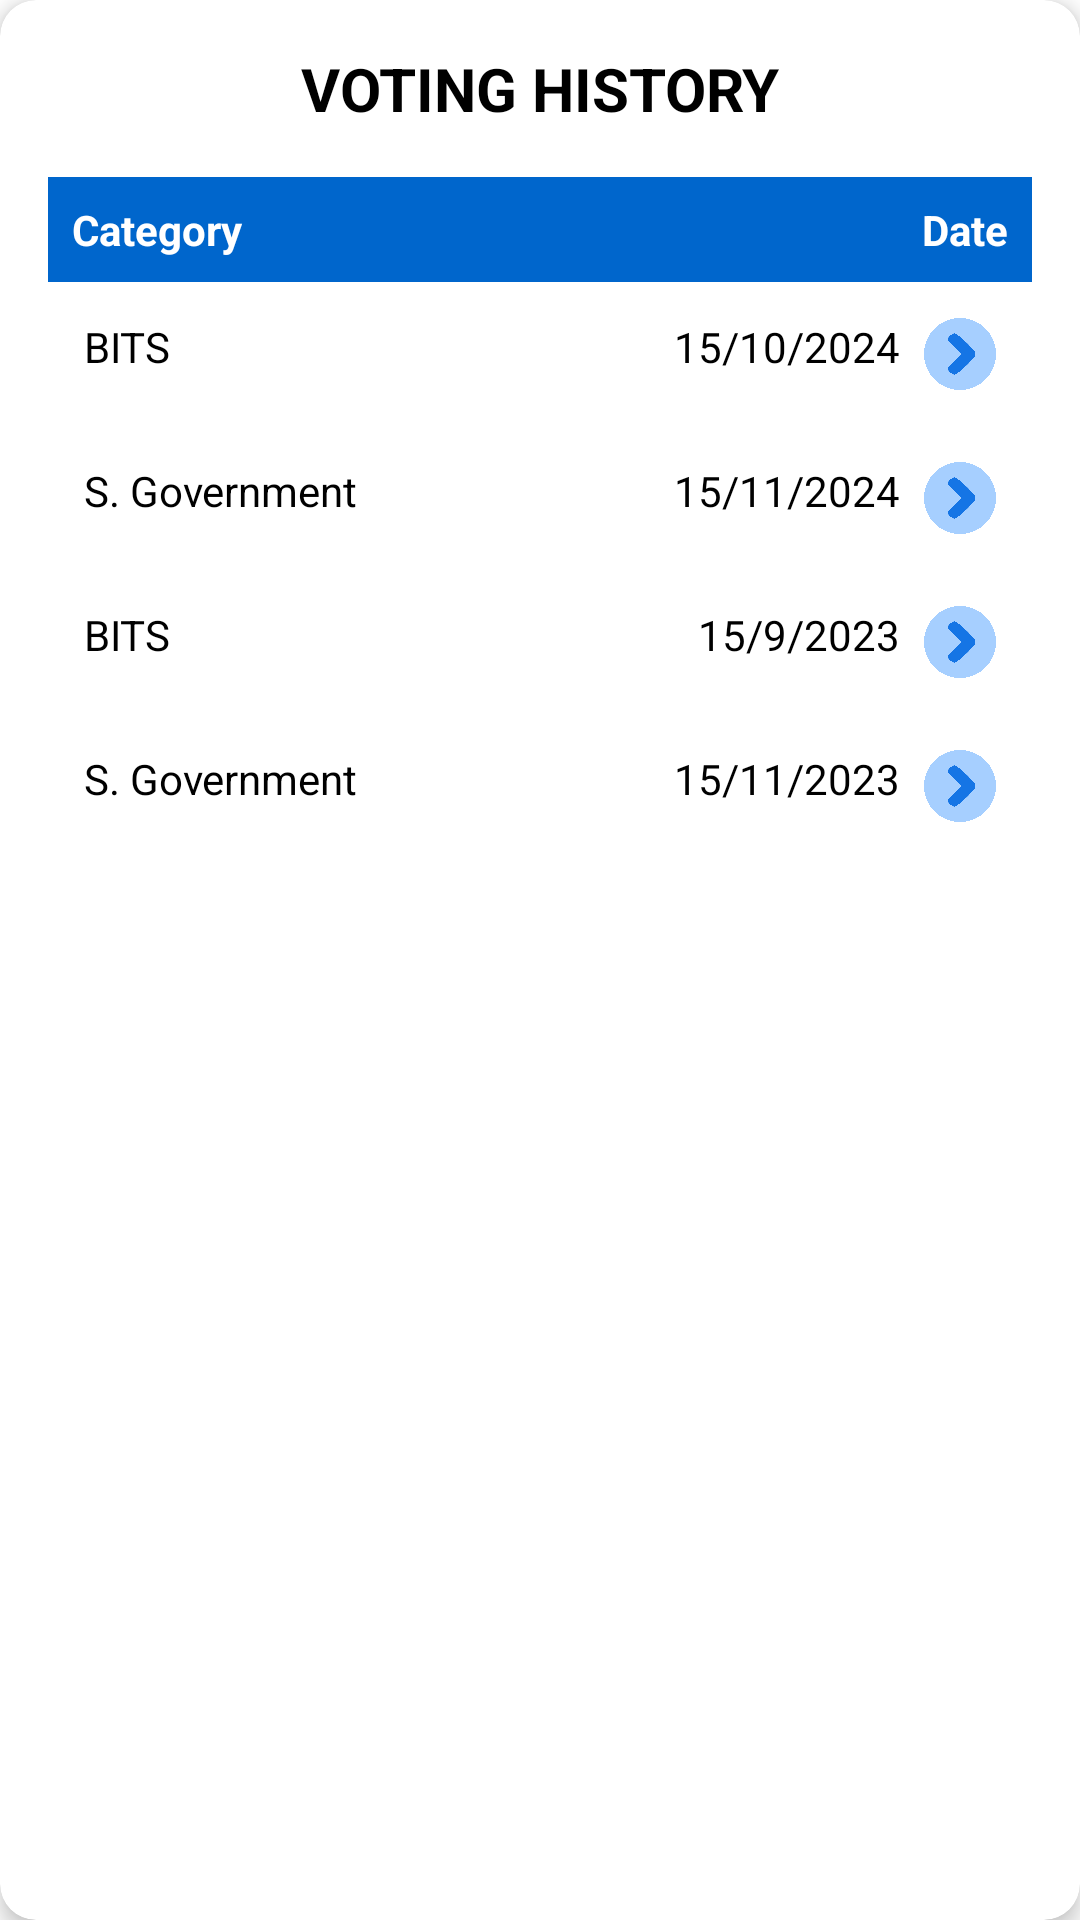

Icon bounding boxes for this 1080 x 1920 phone screenshot, format {"left": x1, "top": y1, "right": x2, "bottom": y2}:
arrow right: {"left": 924, "top": 318, "right": 996, "bottom": 390}, {"left": 924, "top": 462, "right": 996, "bottom": 534}, {"left": 924, "top": 606, "right": 996, "bottom": 678}, {"left": 924, "top": 750, "right": 996, "bottom": 822}
